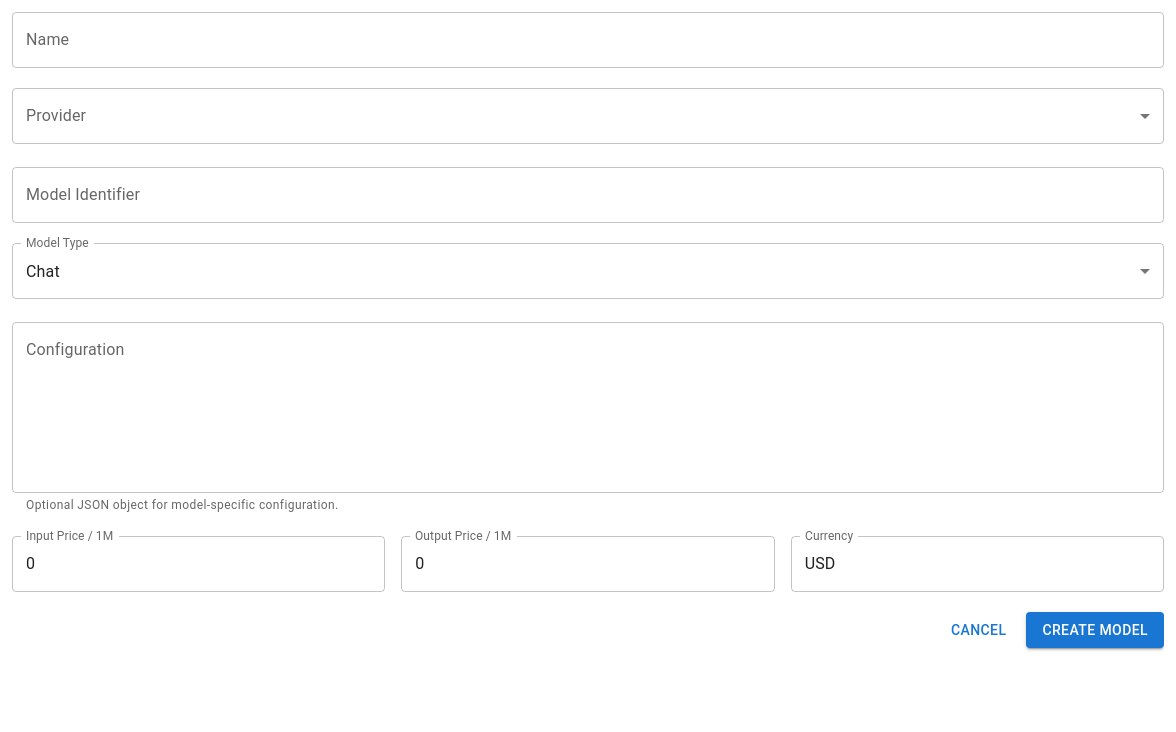
Test: ModelForm › shows validation errors for required fields
The width and height of the screenshot is (1176, 732).
Click the button "Create Model". click: (1095, 630)
box: [1026, 612, 1164, 648]
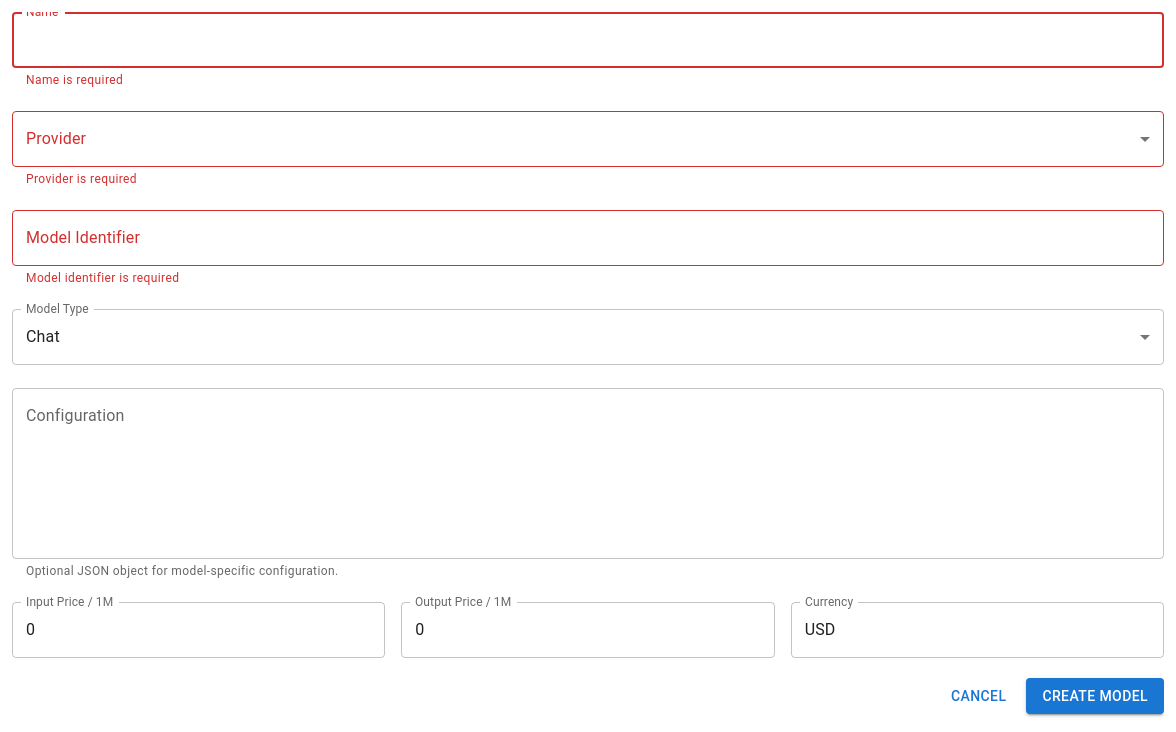
Expected: the text "Name is required" is shown, [26, 73, 123, 87]
Expected: the text "Model identifier is required" is shown, [26, 271, 179, 285]
Expected: the text "Provider is required" is shown, [26, 172, 137, 186]
